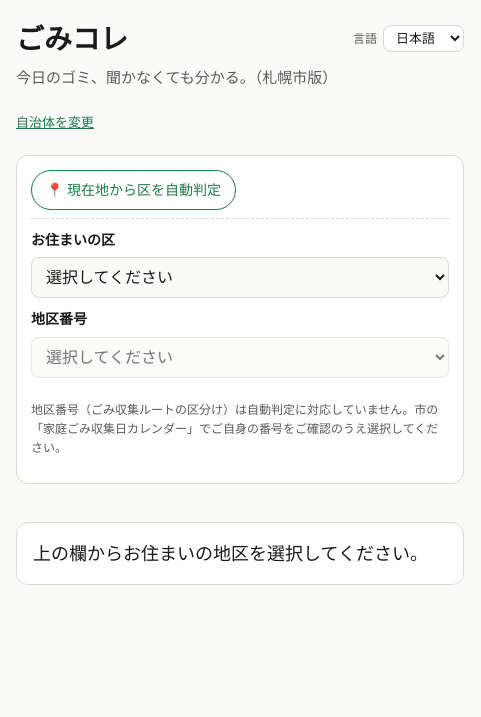
Test case: App › finds a category by an English keyword in the item search when the UI language is English
Select "中央区" in the dropdown labelled "お住まいの区". click: point(240, 278)
box: [31,257,449,298]
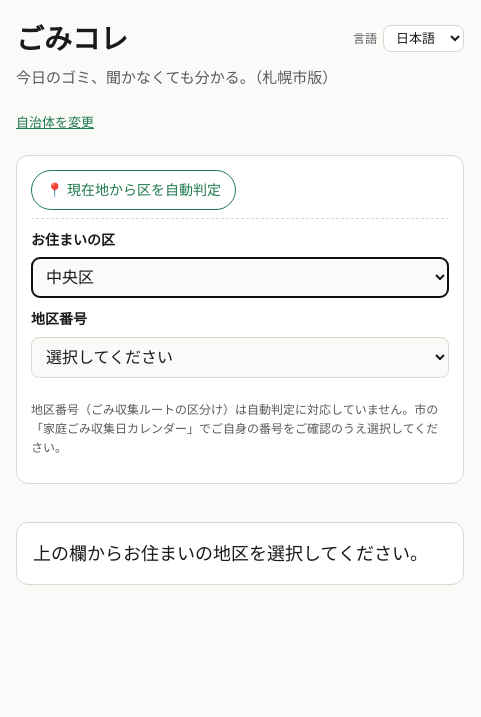
Select "第1地区" in the dropdown labelled "地区番号". click: point(240, 357)
box: [31,337,449,378]
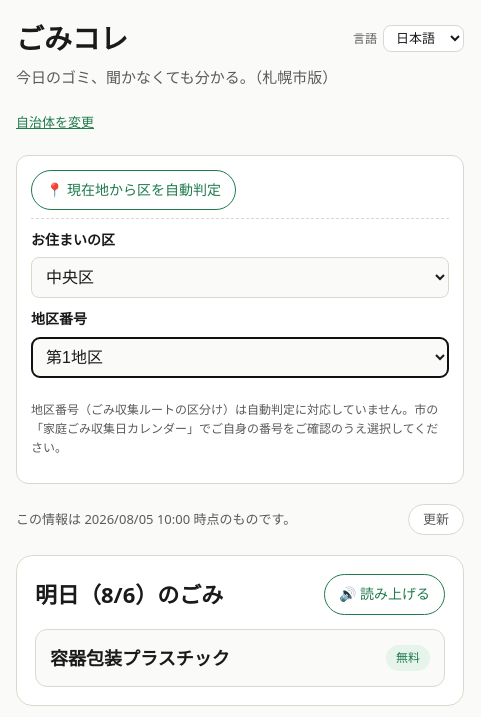
Select "English" in the dropdown labelled "言語". click: point(424, 38)
box: [383,25,464,52]
(page scrolled)
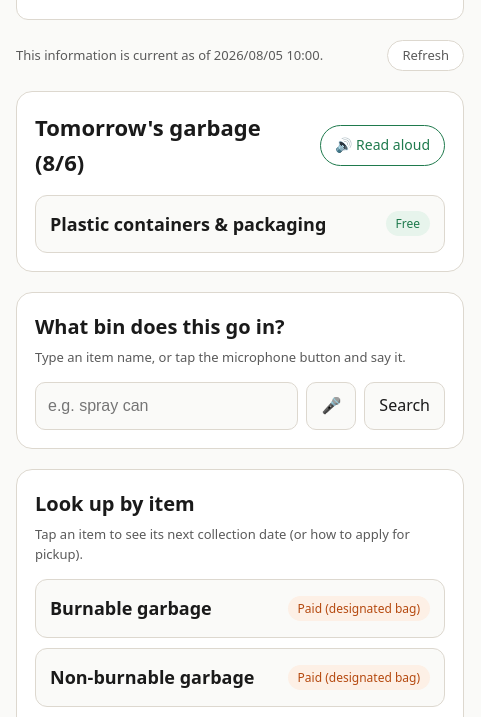
Type "spray can" into the field with placeholder "e.g. spray can". click: point(167, 406)
box: [35,382,298,430]
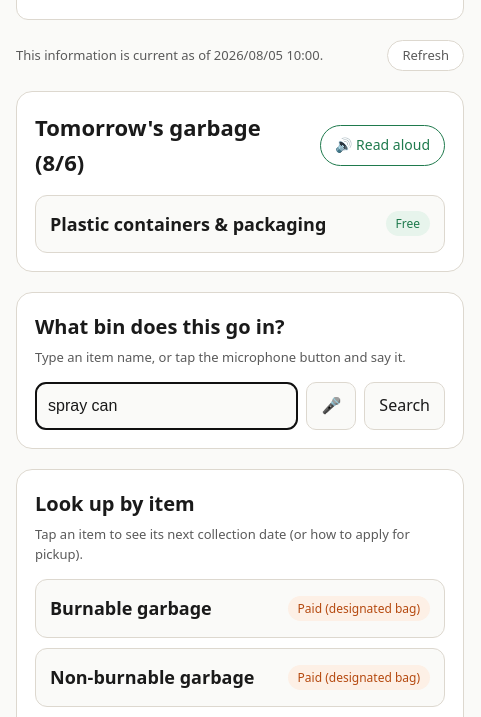
Click the button "Search". click: point(405, 406)
box: [364,382,445,430]
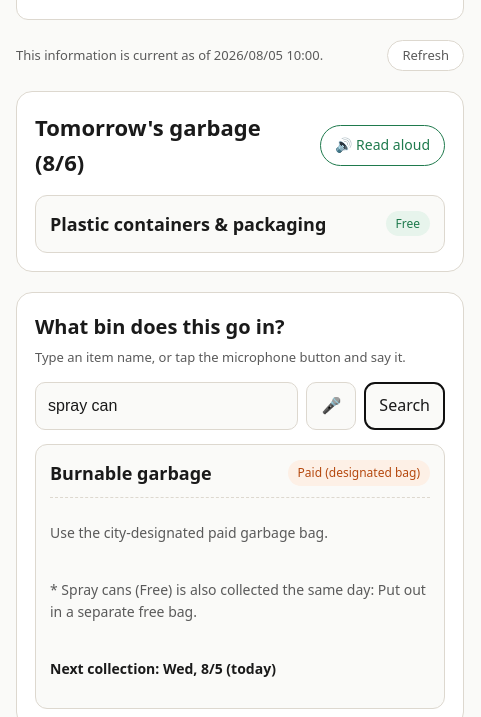
Expected: the text "Burnable garbage" is shown, [50,459,212,488]
